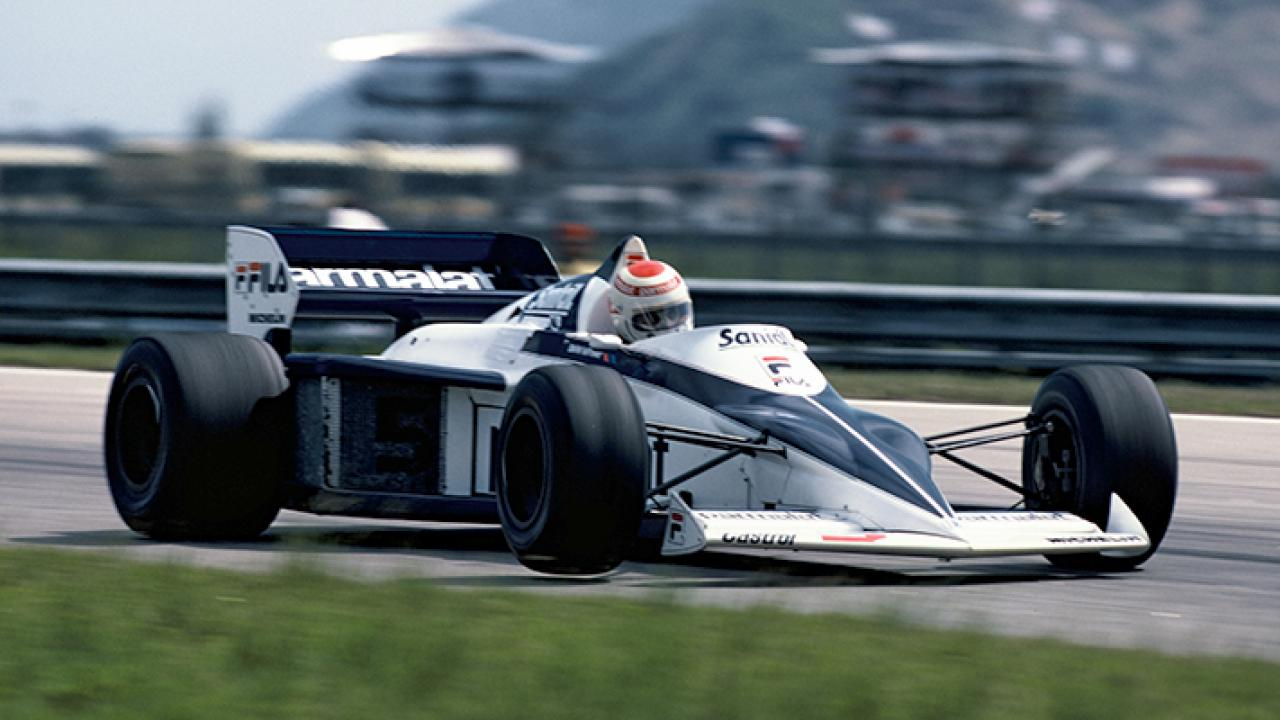f1_car: (80, 188, 1199, 606)
helmet: (601, 249, 704, 353)
